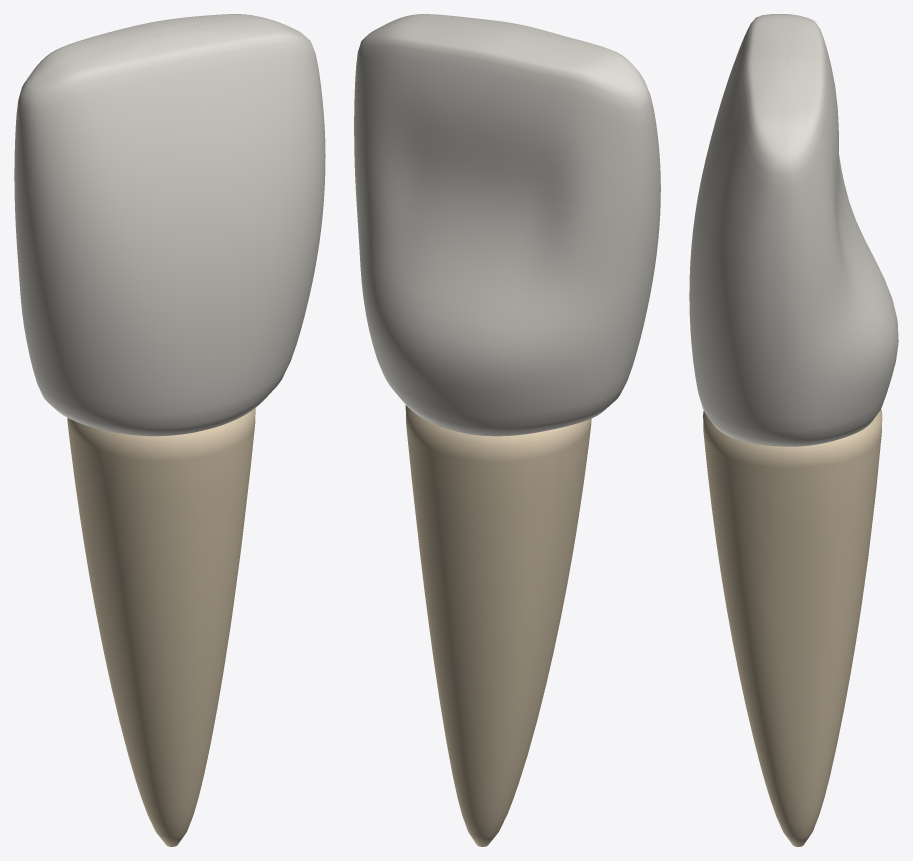
File: incisivo_sup.glb
3 renders of one model, left to right at view 1: azimuth 30°, elevation 25°; view 2: azimuth 150°, elevation 25°; view 3: azimuth 270°, elevation 25°, orthographic. The views are drawn at different scales.
Visible parts, largest first — view 1: Corona, Raices; view 2: Corona, Raices; view 3: Corona, Raices.
Part boxes in pixels (box(x1,y1,x2,y2)): Corona: box(14, 14, 325, 436); Raices: box(67, 408, 255, 846); Corona: box(354, 14, 660, 436); Raices: box(405, 405, 591, 846); Corona: box(689, 14, 898, 446); Raices: box(703, 409, 882, 846).
Size of the model in its own units: 0.00859 by 0.0228 by 0.00554.
